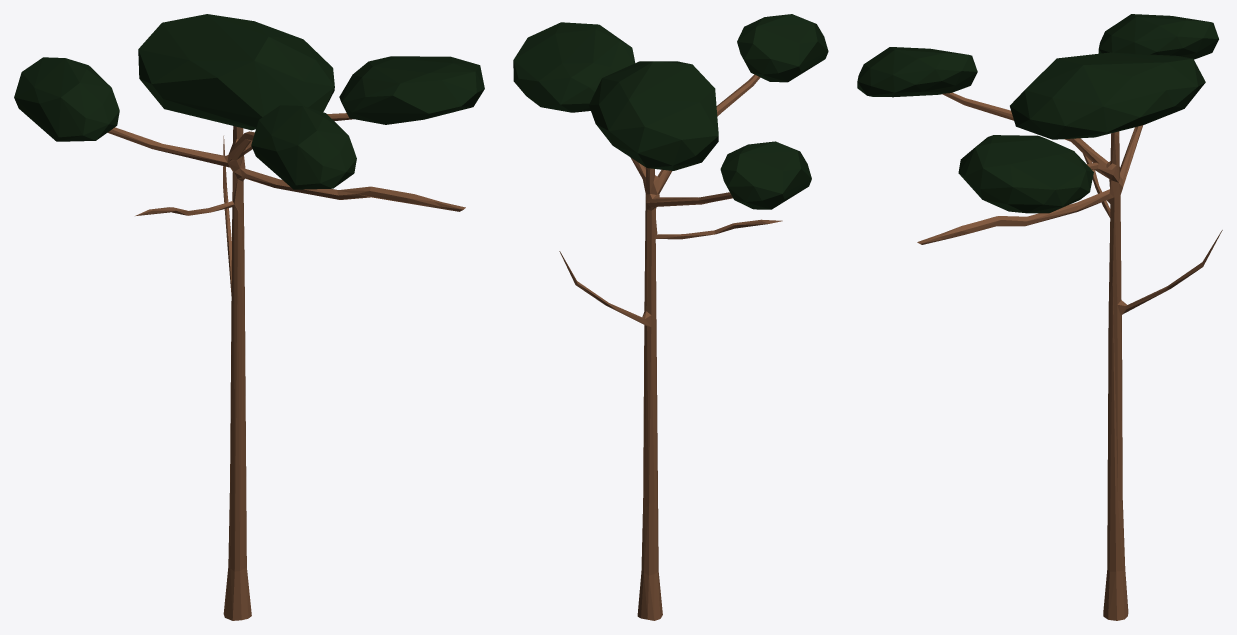
The model's file is SM_tree_birch_01.fbx.
3 renders of one model, left to right at view 1: azimuth 30°, elevation 25°; view 2: azimuth 150°, elevation 25°; view 3: azimuth 270°, elevation 25°, orthographic. The views are drawn at different scales.
Visible parts, largest first — view 1: Object015; view 2: Object015; view 3: Object015.
Boxes of the visible parts, bbox=[...] form: Object015: bbox=[14, 14, 484, 620]; Object015: bbox=[513, 14, 828, 620]; Object015: bbox=[857, 14, 1222, 620].
Bounding box in the file's own units: 165 × 148 × 249.
